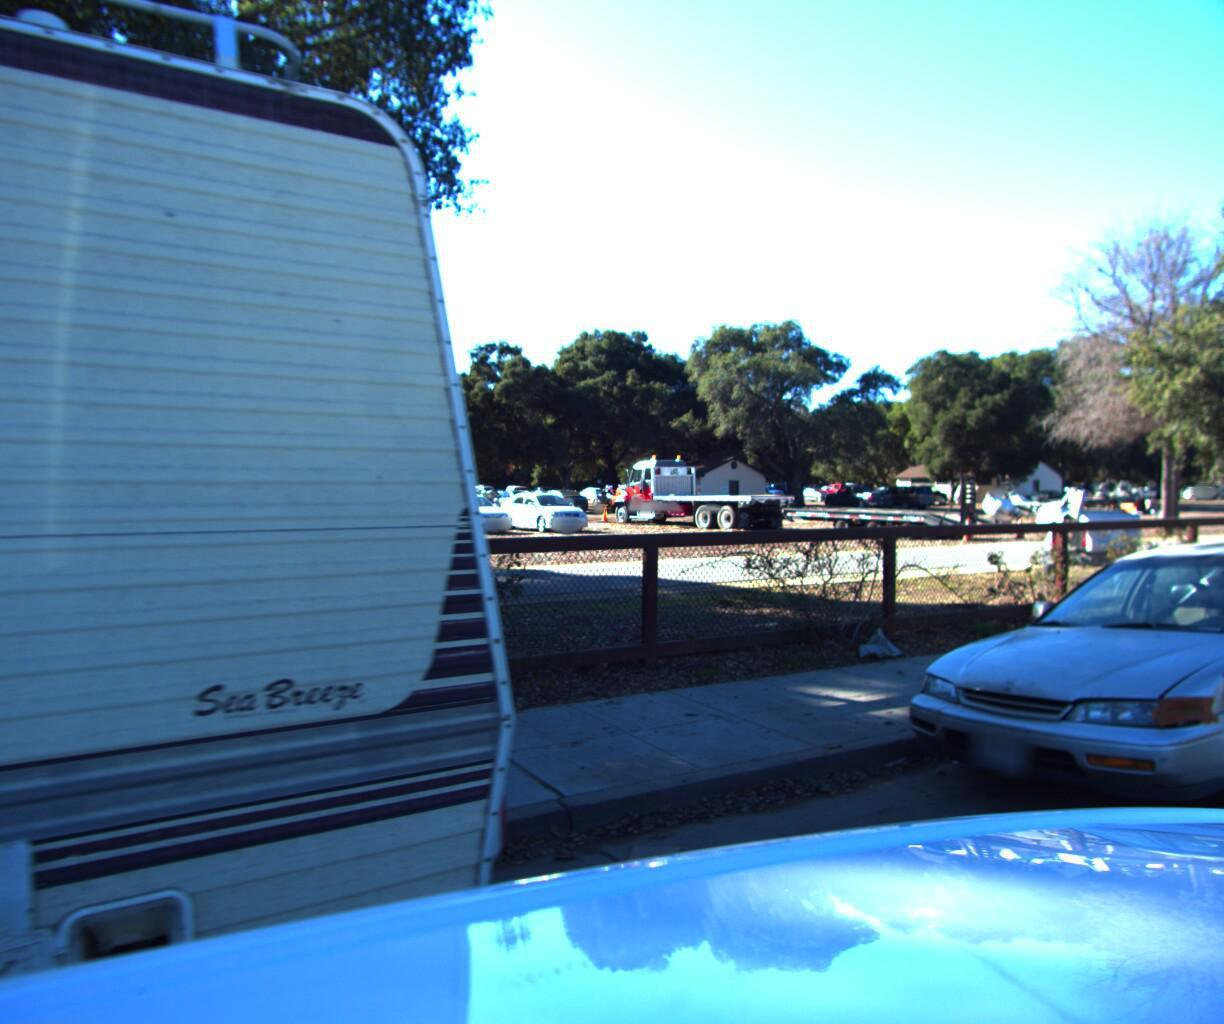car: (875, 522, 1224, 899)
other_vehicle: (961, 466, 1224, 598)
